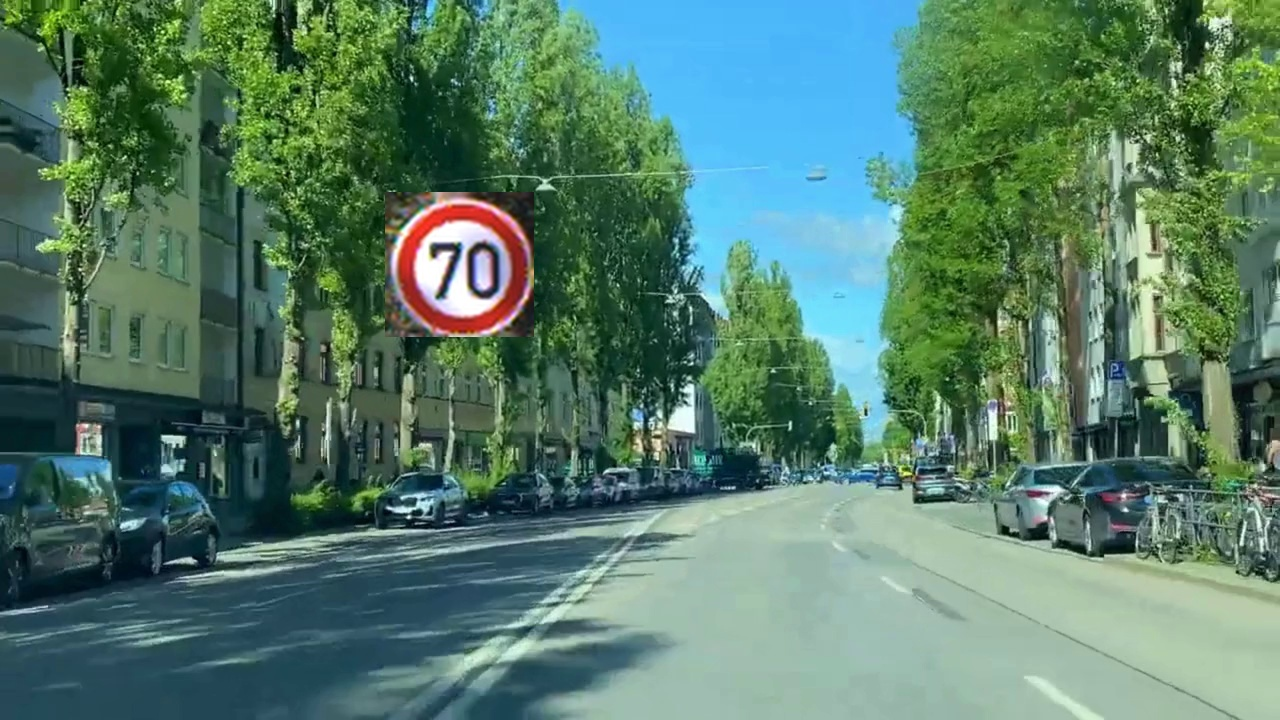Speed 70: (385, 192, 534, 337)
